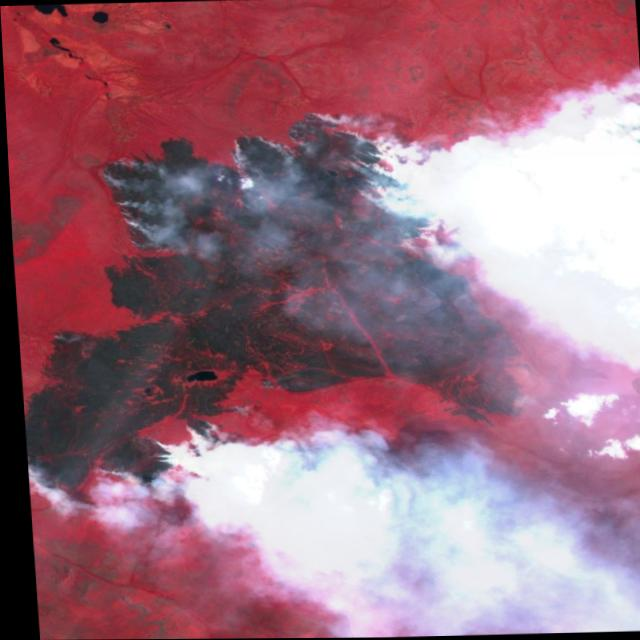fire: (93, 107, 451, 255), (18, 402, 252, 514), (247, 372, 284, 399)
